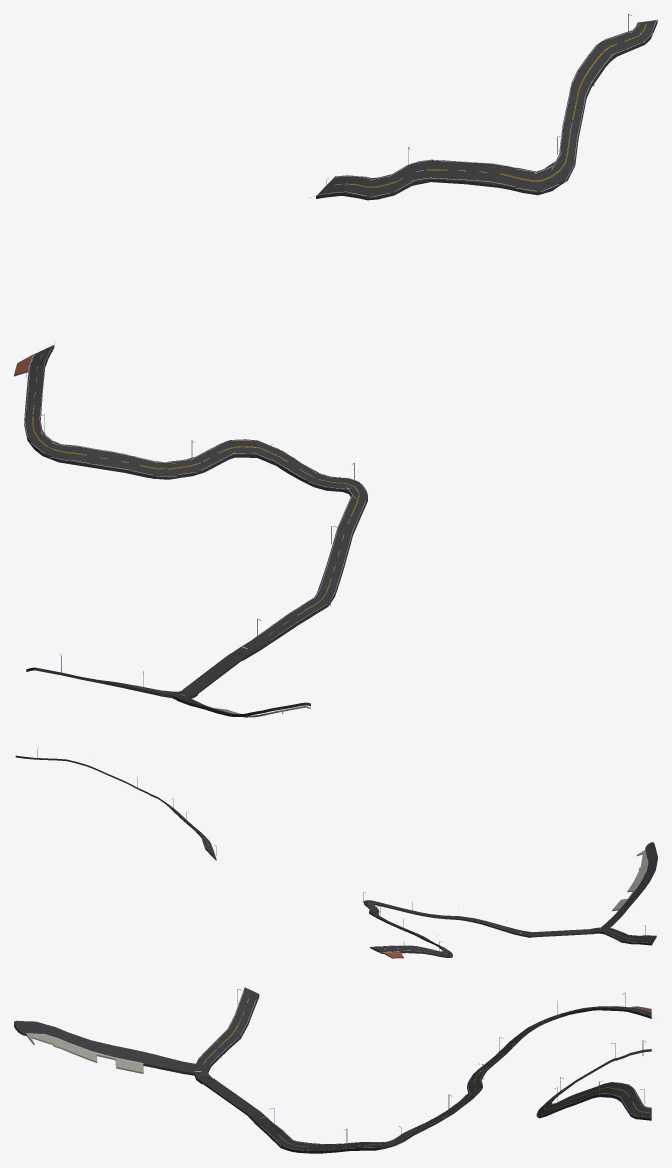
3 renders of one model, top to bottom at view 1: azimuth 30°, elevation 25°; view 2: azimuth 150°, elevation 25°; view 3: azimuth 270°, elevation 25°, orthographic. The views are drawn at different scales.
Bounding box in the file's own units: 374 × 138 × 279.
